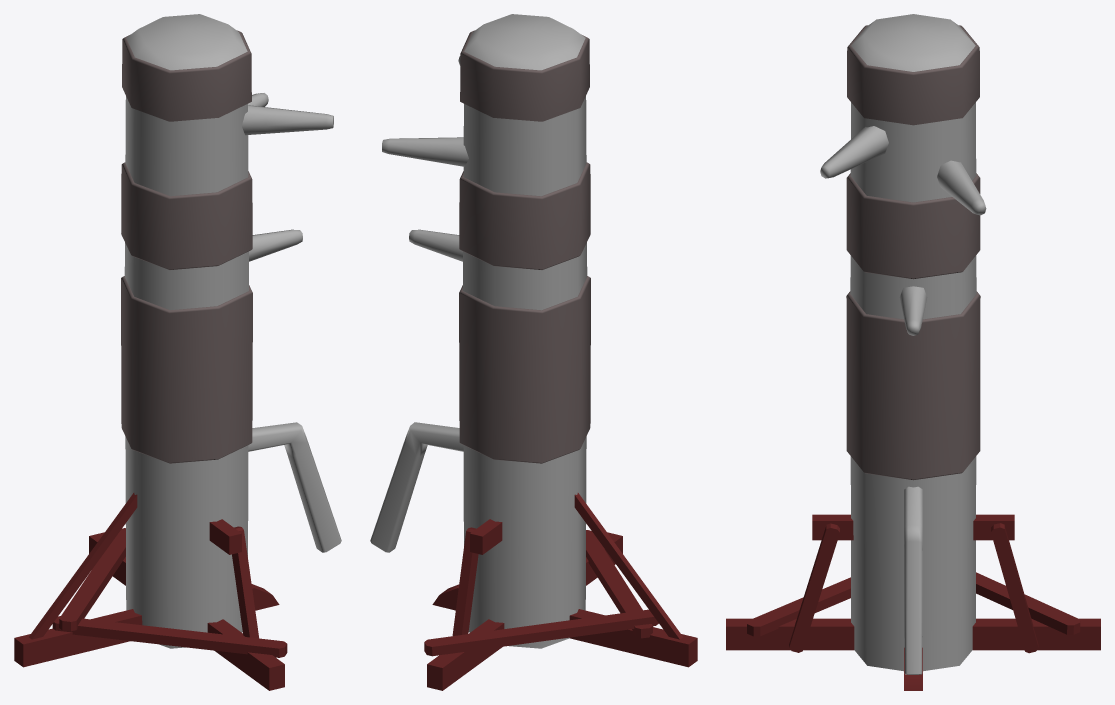
Rendered from Dummy.fbx.
3 views of the same model, side by side, from view 1: azimuth 30°, elevation 25°; view 2: azimuth 150°, elevation 25°; view 3: azimuth 270°, elevation 25° (orthographic). The views are drawn at different scales.
Parts seen in each view (by area): view 1: polySurface83, polySurface82, pCube45, pCube57; view 2: polySurface83, polySurface82, pCube45, pCube57; view 3: polySurface82, polySurface83, pCube45, pCube57.
Boxes of the visible parts, box(x1,y1,x2,y2) form: polySurface83: box(124, 14, 248, 648); polySurface82: box(121, 30, 252, 463); pCube45: box(14, 493, 287, 690); pCube57: box(242, 93, 341, 552); polySurface83: box(463, 14, 587, 648); polySurface82: box(459, 30, 590, 463); pCube45: box(424, 493, 697, 690); pCube57: box(370, 56, 468, 552); polySurface82: box(846, 25, 980, 480); polySurface83: box(850, 14, 976, 671); pCube45: box(726, 514, 1100, 690); pCube57: box(820, 126, 986, 674).
Size of the model in its own units: 102 by 181 by 100.
